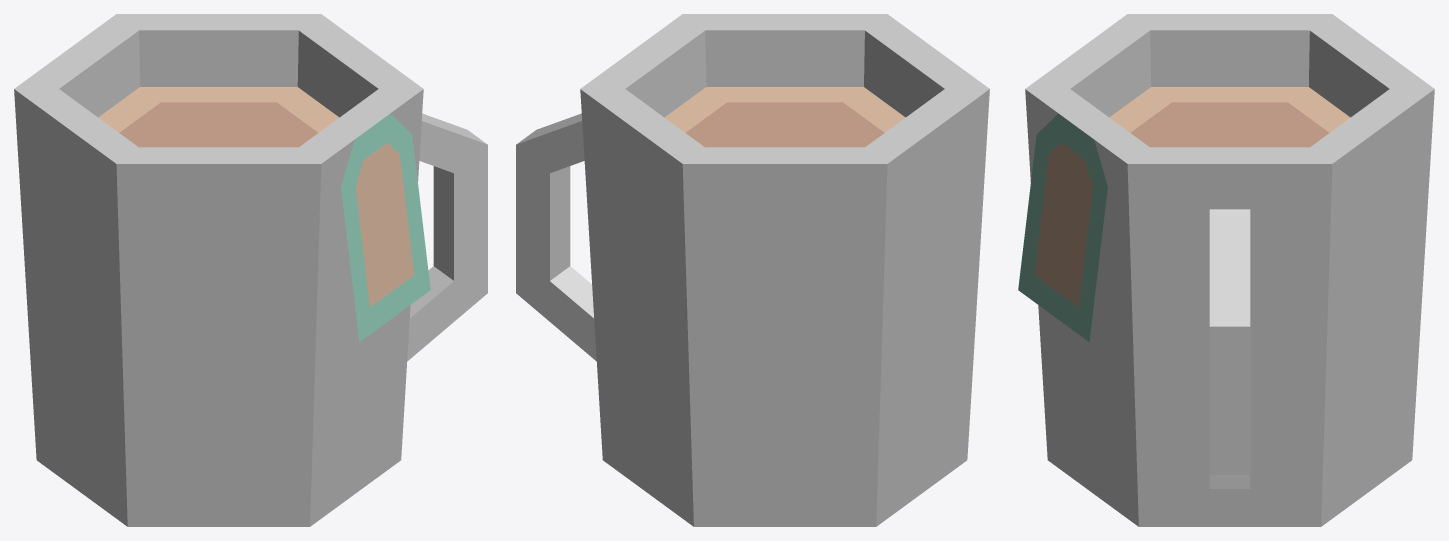
File: cupThea.fbx
3 views of the same model, side by side, from view 1: azimuth 30°, elevation 25°; view 2: azimuth 150°, elevation 25°; view 3: azimuth 270°, elevation 25° (orthographic).
Visible parts, largest first — view 1: cupThea; view 2: cupThea; view 3: cupThea.
Boxes of the visible parts, box(x1,y1,x2,y2) form: cupThea: box(14, 14, 487, 526); cupThea: box(516, 14, 989, 526); cupThea: box(1018, 14, 1434, 526).
Size of the model in its own units: 23.25 by 20 by 20.34.
